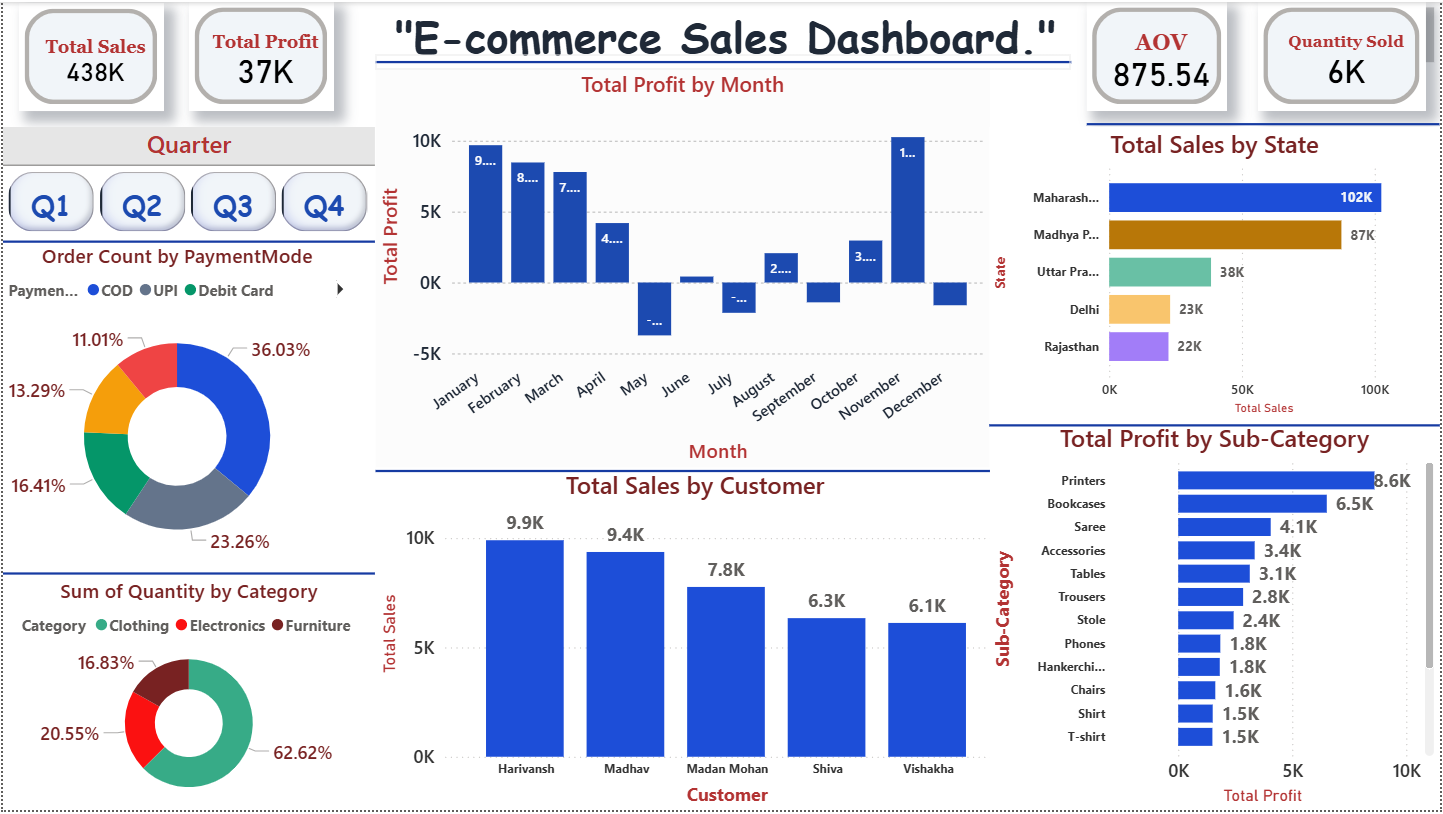

What the dashboard file says about the page in this screenshot:
{"tool":"powerbi","page":{"name":"Page 1","canvas":[1280,720],"ordinal":0},"visuals":[{"type":"textbox","box":[14.7,0,1265,60.1],"z":0},{"type":"cardVisual","fields":{"Data":["Details (1).Total Sales"]},"box":[14.7,1.2,128.8,95.7],"z":1000},{"type":"cardVisual","fields":{"Data":["Details (1).Total Profit"]},"box":[165.6,0,128.8,96.9],"z":2000},{"type":"cardVisual","fields":{"Data":["Details (1).AOV"]},"box":[965.6,0,125.2,96.9],"z":3000},{"type":"cardVisual","fields":{"Data":["Details (1).Quantity Sold"]},"box":[1117.8,0,149.7,96.9],"z":4000},{"type":"advancedSlicerVisual","fields":{"Values":["DateTable.Quarter"]},"box":[0,111.7,331.3,96.9],"z":5000},{"type":"clusteredColumnChart","fields":{"Y":["Details (1).Total Profit"],"Category":["DateTable.Date.Variation.Date Hierarchy.Month"]},"box":[331.3,60.1,547.2,354.6],"z":7000},{"type":"barChart","title":"Total Sales by State","fields":{"Category":["Orders (1).State"],"Y":["Details (1).Total Sales"]},"box":[878.5,111.7,401.2,261.4],"z":8000},{"type":"donutChart","fields":{"Y":["Details (1).Quantity"],"Category":["Details (1).Category"]},"box":[0,511.7,331.3,208.6],"z":9000},{"type":"donutChart","fields":{"Category":["Details (1).PaymentMode"],"Y":["Details (1).Order Count"]},"box":[0,213.5,310.4,294.5],"z":10000},{"type":"columnChart","fields":{"Y":["Details (1).Total Sales"],"Category":["Orders (1).CustomerName"]},"box":[331.3,414.7,569.3,305.5],"z":10001},{"type":"barChart","title":"Total Profit by Sub-Category","fields":{"Y":["Details (1).Profit"],"Category":["Details (1).Sub-Category"]},"box":[878.5,373,401.2,347.2],"z":10002},{"type":"shape","box":[331.3,414.7,547.2,4.9],"z":10003},{"type":"shape","box":[878.5,242.9,401.2,268.7],"z":10004},{"type":"shape","box":[0,506.8,331.3,4.9],"z":10005},{"type":"shape","box":[0,204.9,331.3,17.2],"z":10006},{"type":"shape","box":[331.3,46.6,619.6,13.5],"z":10007},{"type":"shape","box":[965.6,105.5,314.1,6.1],"z":10008}]}

Visuals, with their boxes in screenshot pixels (x1, y1, x2, y2), scaled from the page's 1280x720 canvas onto the 1443x814 screenshot:
textbox: bbox=(17, 0, 1442, 68)
cardVisual - Details (1).Total Sales: bbox=(17, 1, 162, 110)
cardVisual - Details (1).Total Profit: bbox=(187, 0, 332, 110)
cardVisual - Details (1).AOV: bbox=(1089, 0, 1230, 110)
cardVisual - Details (1).Quantity Sold: bbox=(1260, 0, 1429, 110)
advancedSlicerVisual - DateTable.Quarter: bbox=(0, 126, 373, 236)
clusteredColumnChart - Details (1).Total Profit x DateTable.Date.Variation.Date Hierarchy.Month: bbox=(373, 68, 990, 469)
"Total Sales by State" barChart: bbox=(990, 126, 1442, 422)
donutChart - Details (1).Quantity x Details (1).Category: bbox=(0, 579, 373, 813)
donutChart - Details (1).PaymentMode x Details (1).Order Count: bbox=(0, 241, 350, 574)
columnChart - Details (1).Total Sales x Orders (1).CustomerName: bbox=(373, 469, 1015, 813)
"Total Profit by Sub-Category" barChart: bbox=(990, 422, 1442, 813)
shape: bbox=(373, 469, 990, 474)
shape: bbox=(990, 275, 1442, 578)
shape: bbox=(0, 573, 373, 579)
shape: bbox=(0, 232, 373, 251)
shape: bbox=(373, 53, 1072, 68)
shape: bbox=(1089, 119, 1442, 126)
